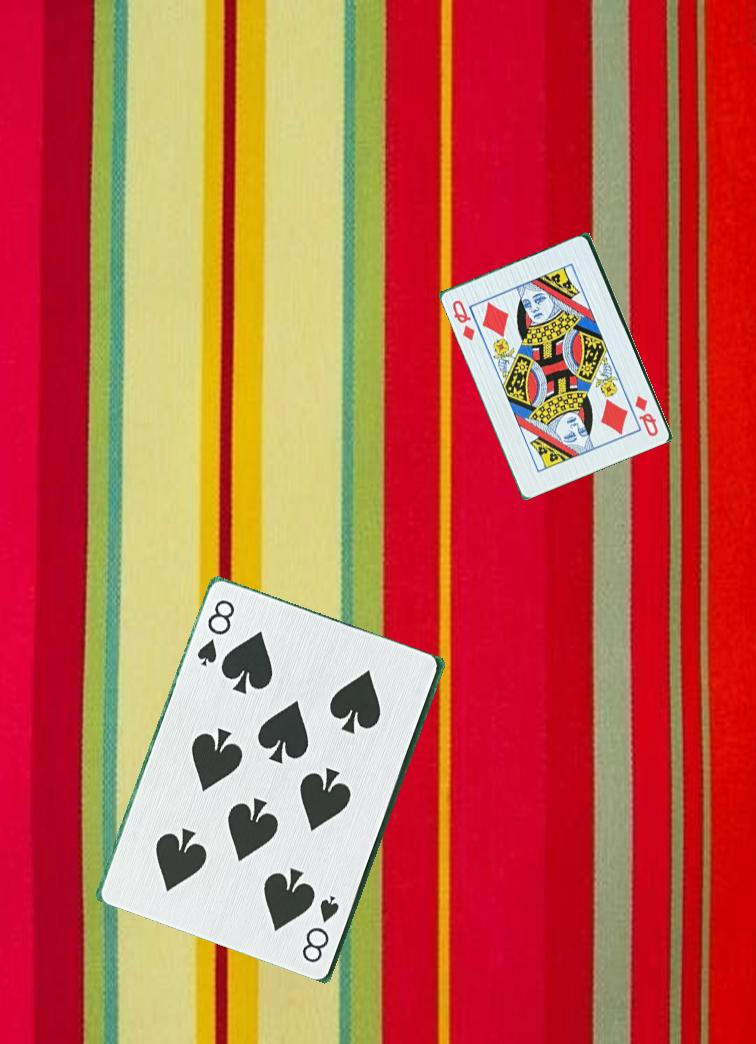8s: (193, 590, 243, 669), (298, 888, 342, 965)
qd: (632, 392, 662, 440), (449, 296, 479, 344)
